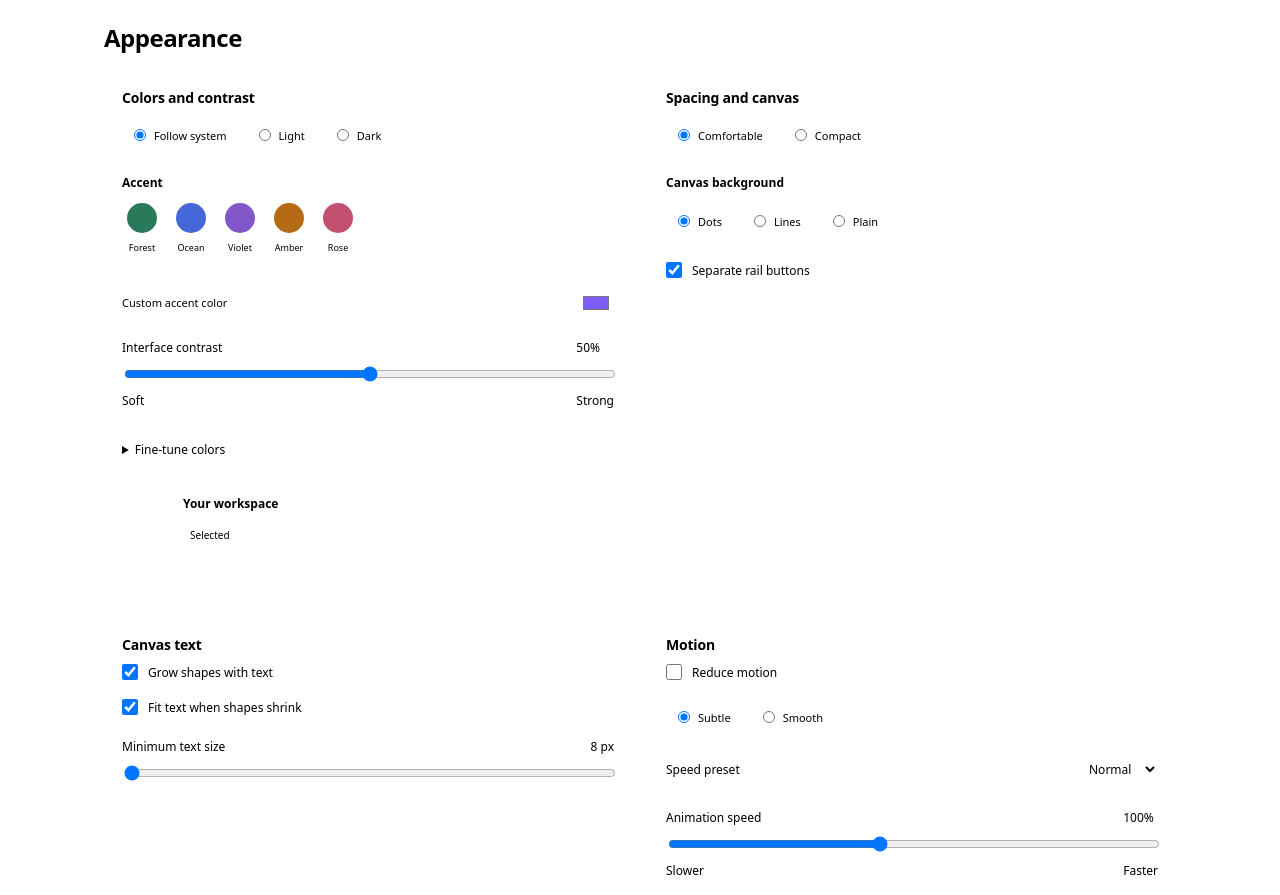
appearance controls › pauses customizable motion while preserving the selected style and speed
Step 1. Click the radio button labelled "Smooth" → click(769, 717), box [763,711,775,723]
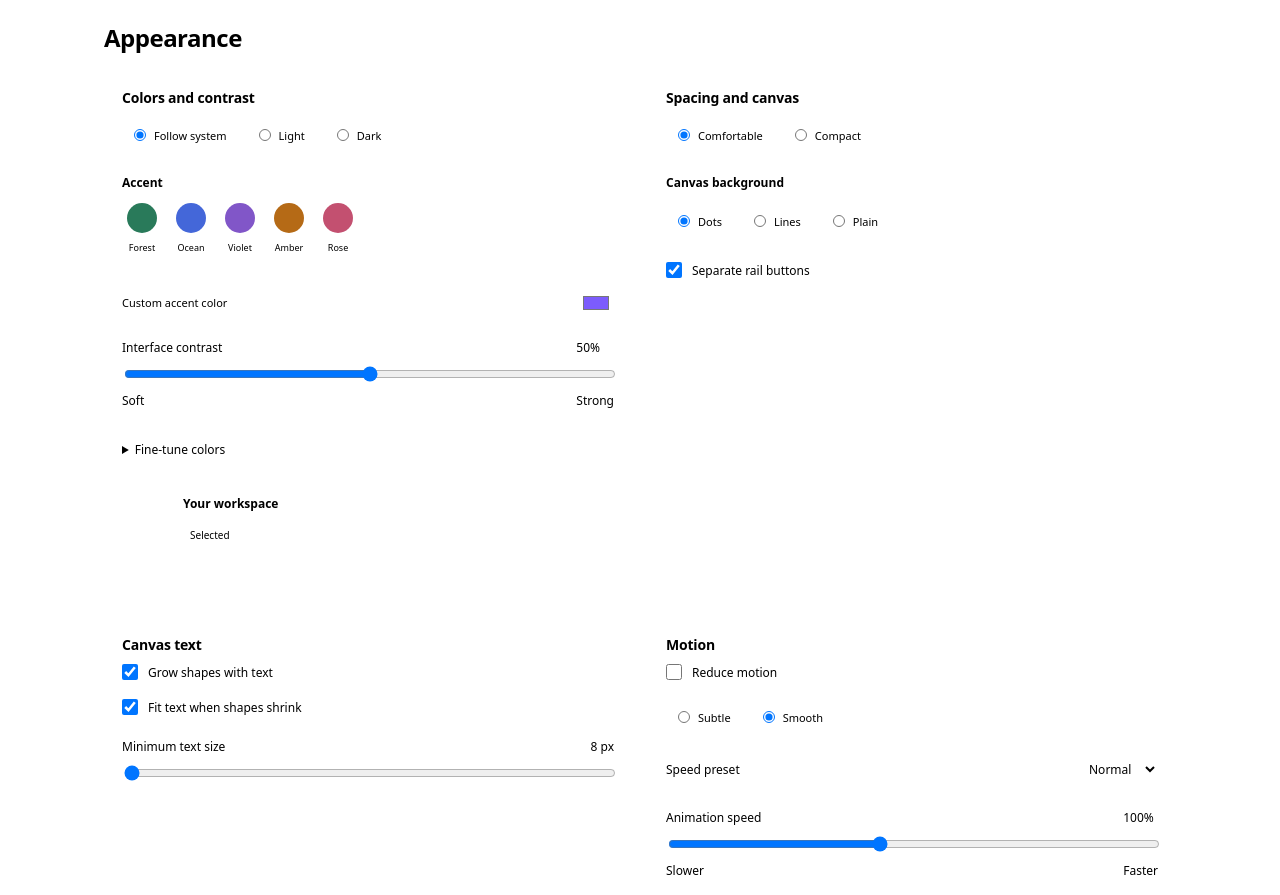
Step 2. Select "Fast" in the dropdown labelled "Speed preset" → (1116, 769), box [1075,752,1158,787]
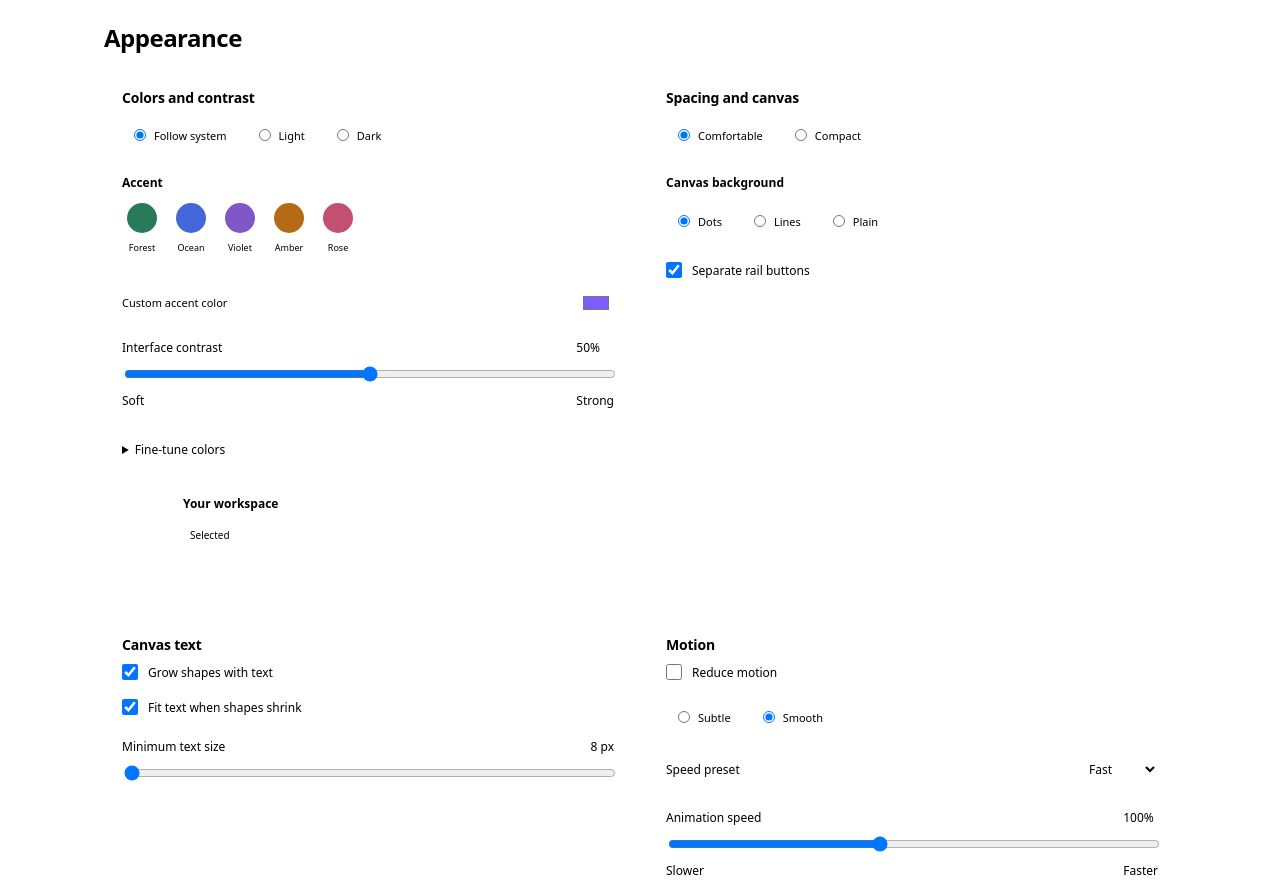
Step 3. Click the checkbox labelled "Reduce motion" → click(674, 672), box [666,664,682,680]
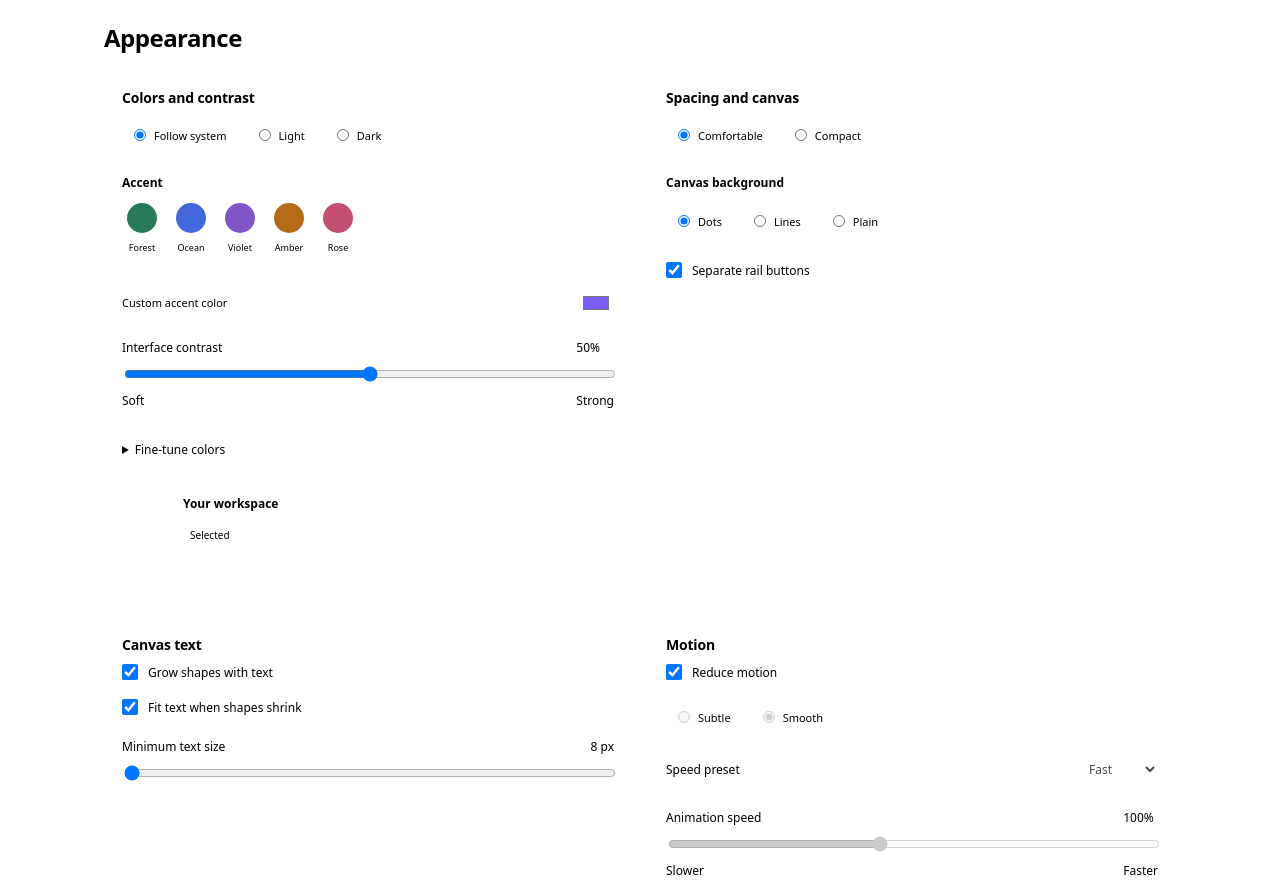
Now the radio button labelled "Smooth" is checked, box [763,711,775,723]
Now the radio button labelled "Smooth" is disabled, box [763,711,775,723]
Now the dropdown labelled "Speed preset" is disabled, box [1075,752,1158,787]
Step 4. Click the checkbox labelled "Reduce motion" → click(674, 672), box [666,664,682,680]
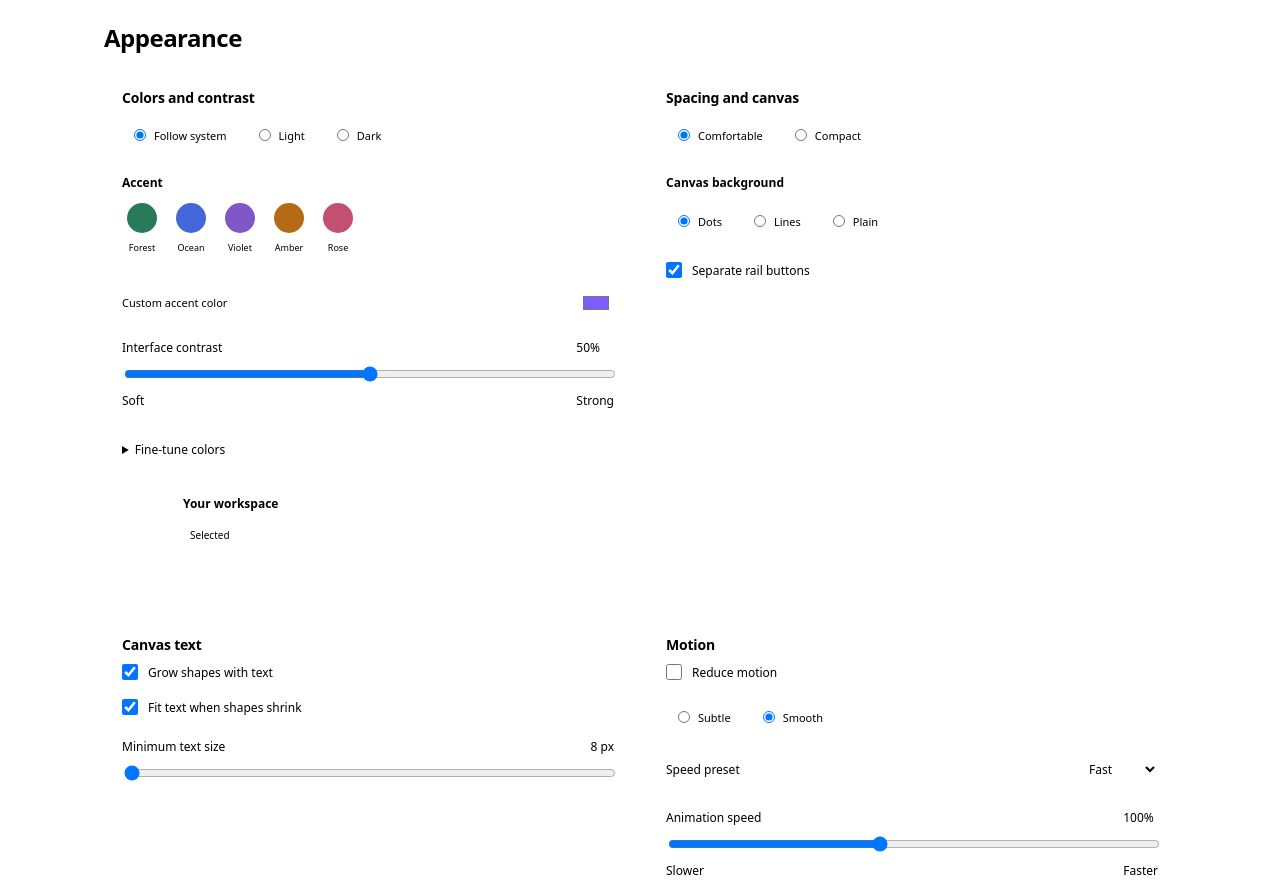
Now the radio button labelled "Smooth" is enabled, box [763,711,775,723]
